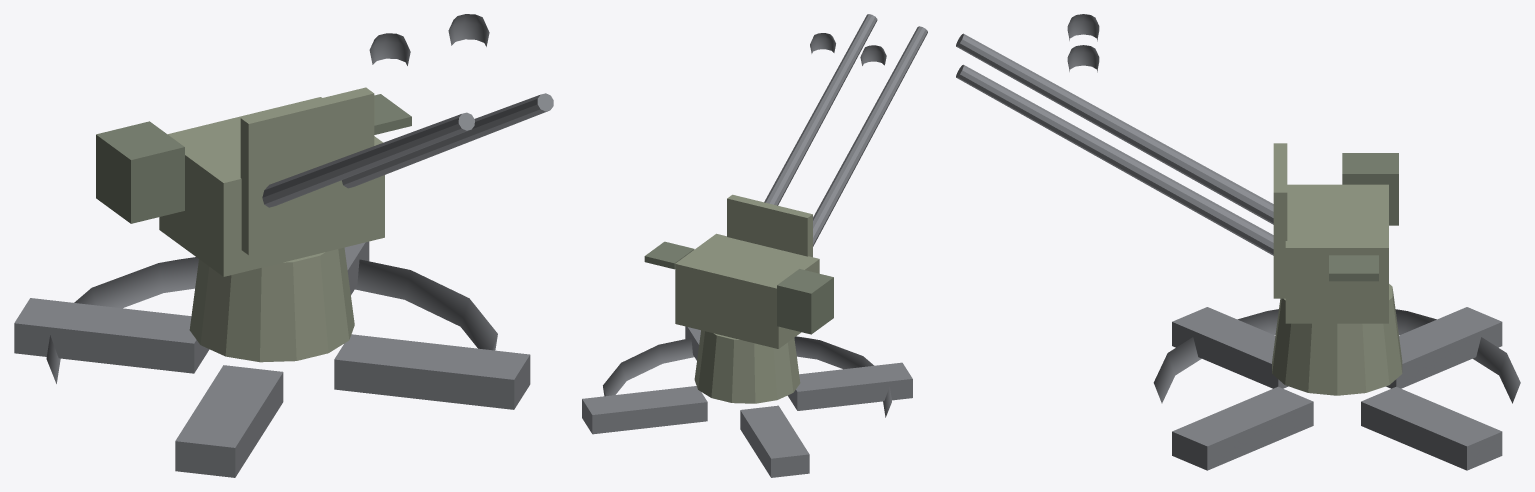
Rendered from armoured-column-and-field-camp-anti-air-mount-9ca0f138__23683.glb.
The picture shows the model from 3 angles, left to right: view 1: azimuth 30°, elevation 25°; view 2: azimuth 150°, elevation 25°; view 3: azimuth 270°, elevation 25°; orthographic projection. The views are drawn at different scales.
Visible parts, largest first — view 1: mount (×3), anti-air-mount; view 2: mount (×3), anti-air-mount; view 3: mount (×3), anti-air-mount.
Boxes of the visible parts, x1,y1,x2,y2 form: mount (×3): [96, 14, 553, 362]; anti-air-mount: [14, 241, 530, 477]; mount (×3): [644, 14, 927, 403]; anti-air-mount: [582, 326, 912, 477]; mount (×3): [956, 14, 1402, 395]; anti-air-mount: [1153, 307, 1520, 470].
Bounding box in the file's own units: 2.2 × 2.44 × 3.38.
